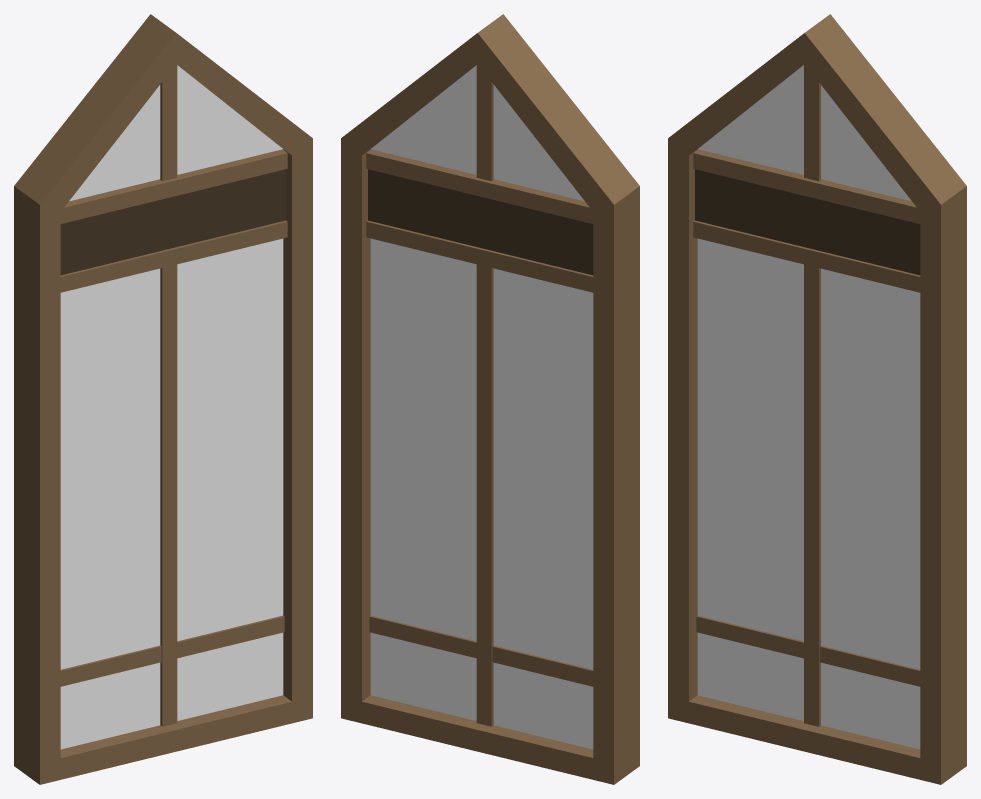
Rendered from ChurchTallWindow.glb.
3 renders of one model, left to right at view 1: azimuth 30°, elevation 25°; view 2: azimuth 150°, elevation 25°; view 3: azimuth 330°, elevation 25°, orthographic.
Visible parts, largest first — view 1: ChurchWindowGlass, ChurchWindowFrame, ChurchWindowGrating, ChurchWindowGlassTop; view 2: ChurchWindowGlass, ChurchWindowFrame, ChurchWindowGrating, ChurchWindowGlassTop; view 3: ChurchWindowGlass, ChurchWindowFrame, ChurchWindowGrating, ChurchWindowGlassTop.
Boxes of the visible parts, x1=… form: ChurchWindowGlass: x1=60, y1=238, x2=283, y2=749; ChurchWindowFrame: x1=14, y1=14, x2=312, y2=784; ChurchWindowGrating: x1=60, y1=264, x2=284, y2=726; ChurchWindowGlassTop: x1=69, y1=65, x2=282, y2=201; ChurchWindowGlass: x1=370, y1=238, x2=593, y2=749; ChurchWindowFrame: x1=341, y1=14, x2=639, y2=784; ChurchWindowGrating: x1=369, y1=264, x2=593, y2=726; ChurchWindowGlassTop: x1=371, y1=65, x2=584, y2=201; ChurchWindowGlass: x1=697, y1=238, x2=920, y2=749; ChurchWindowFrame: x1=668, y1=14, x2=966, y2=784; ChurchWindowGrating: x1=696, y1=264, x2=920, y2=726; ChurchWindowGlassTop: x1=698, y1=65, x2=911, y2=201.
Bounding box in the file's own units: 2 × 5.04 × 0.3282.
2 materials, 1 textured.
